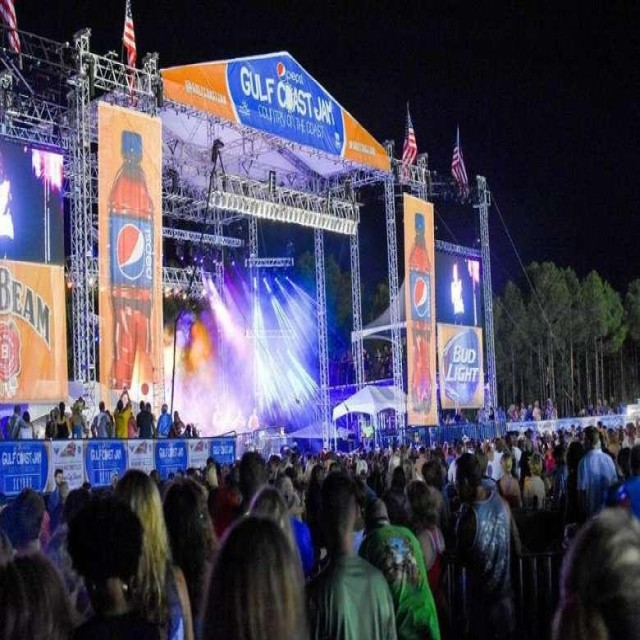pepsi: (116, 222, 145, 290), (412, 276, 432, 320)
